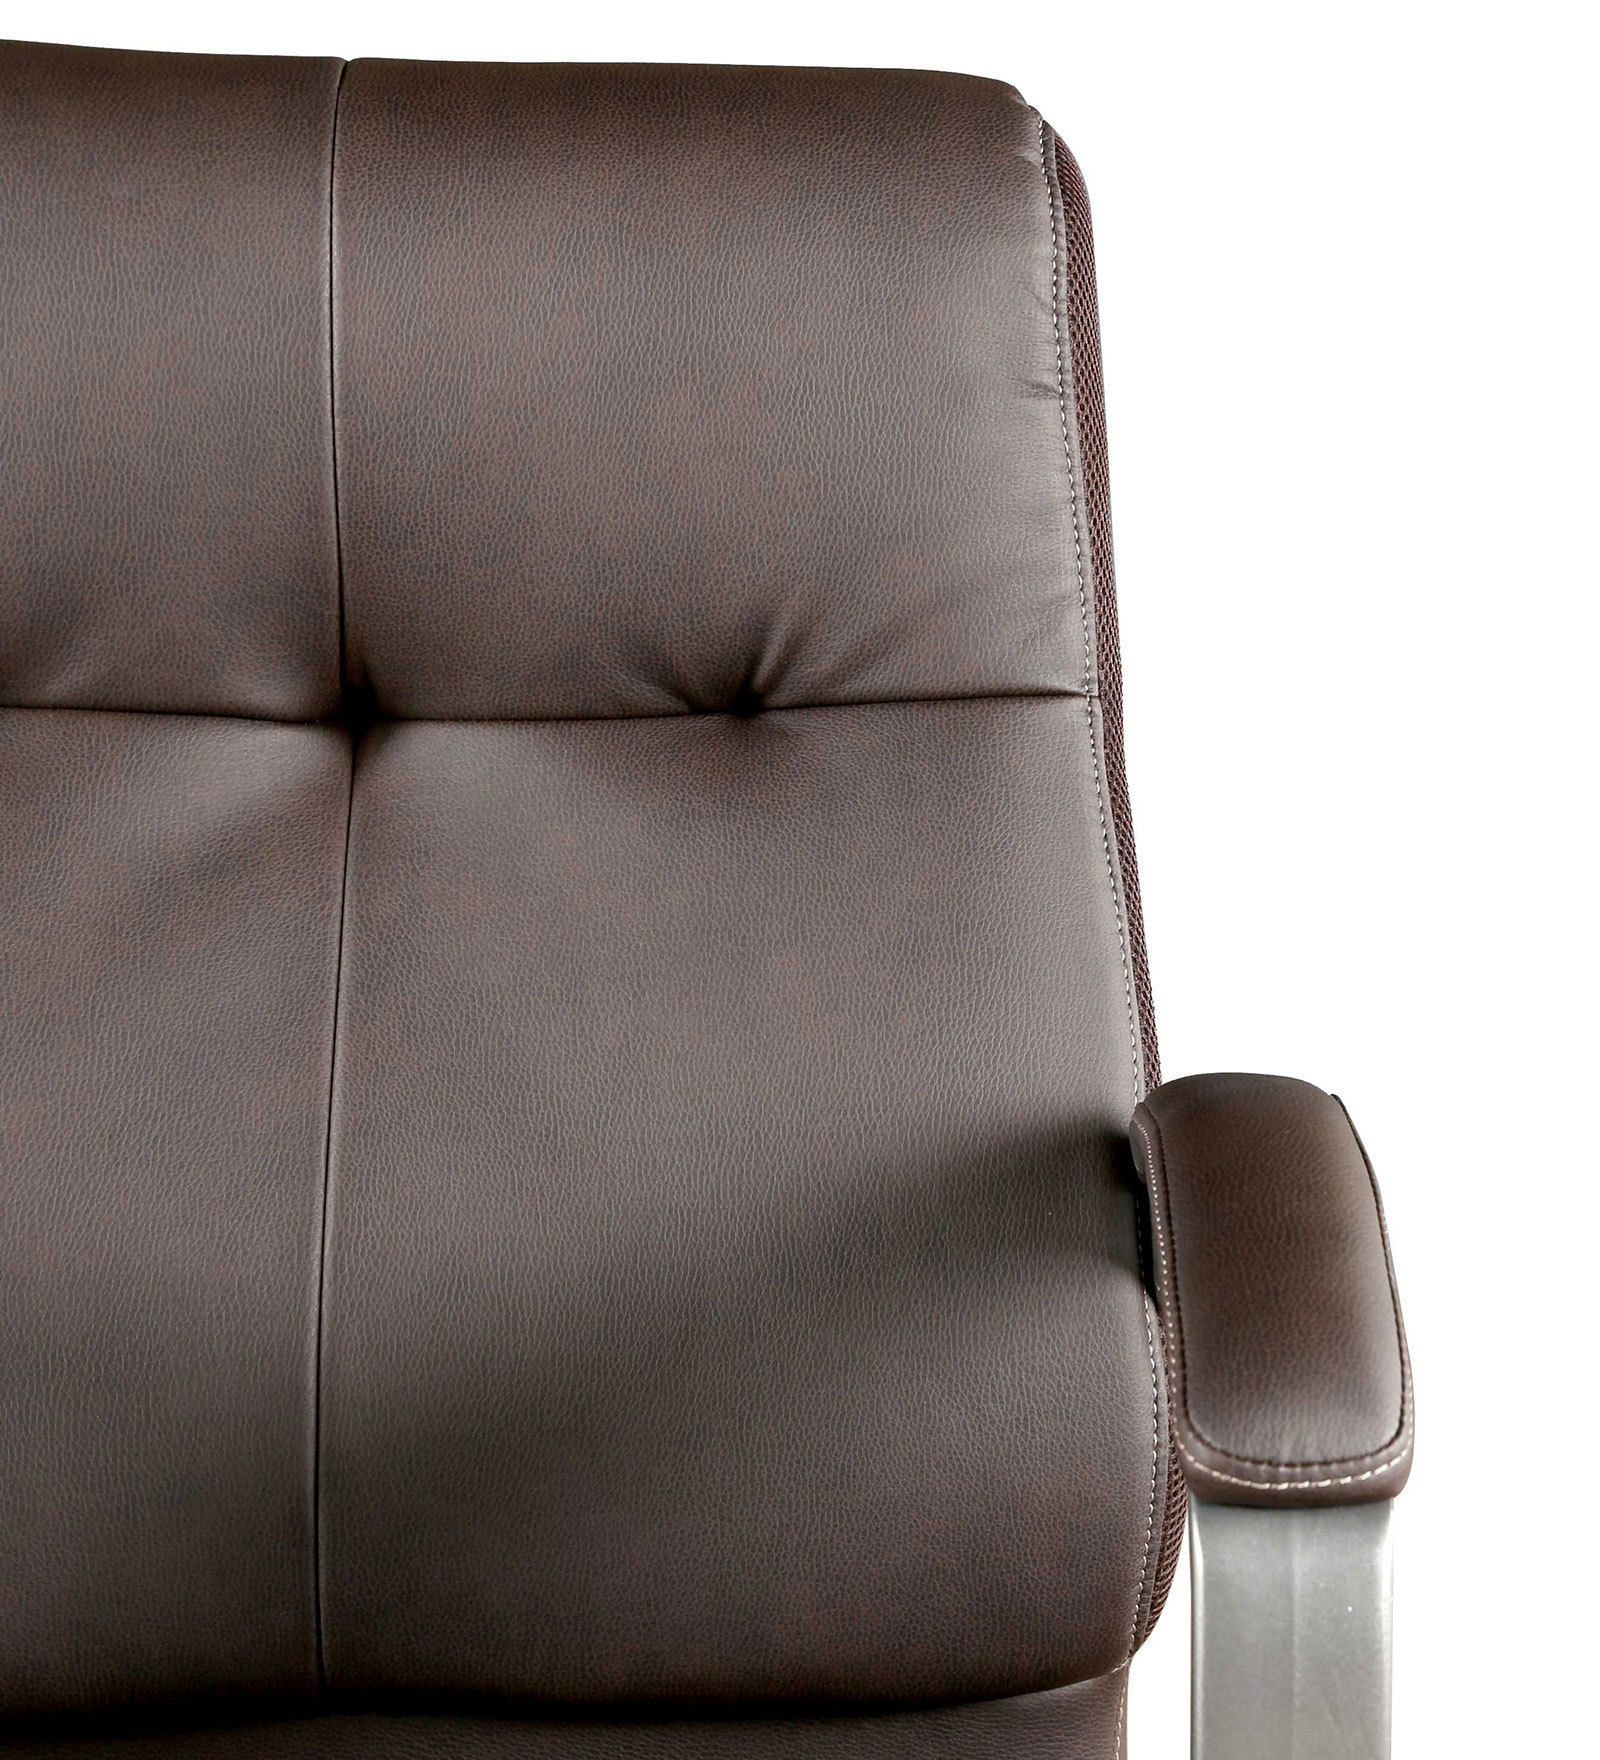Hugo Leatherette Ergonomic Chair by Hometown: (9, 28, 1441, 1760)
